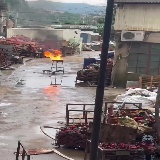fire: (44, 49, 63, 60)
